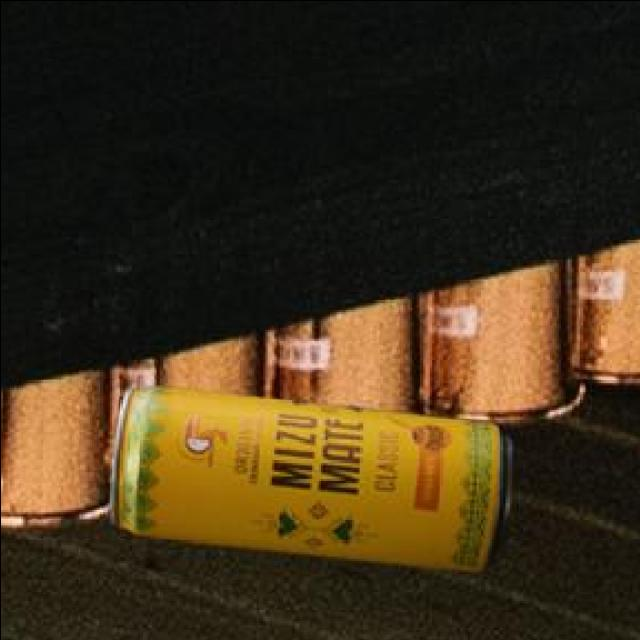logam: (112, 390, 514, 574)
